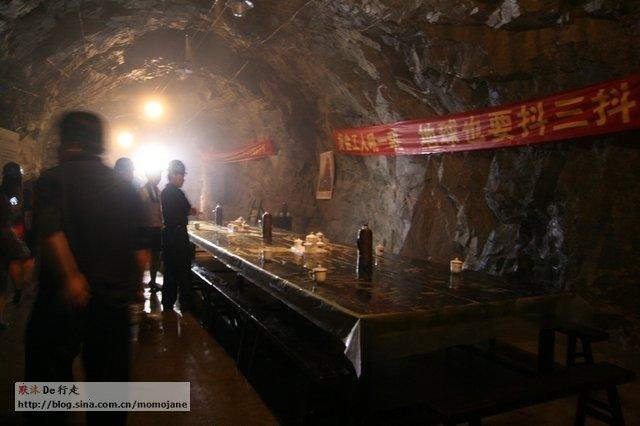helmet: (169, 162, 189, 177)
